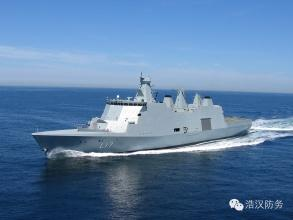warship: (30, 62, 257, 160)
